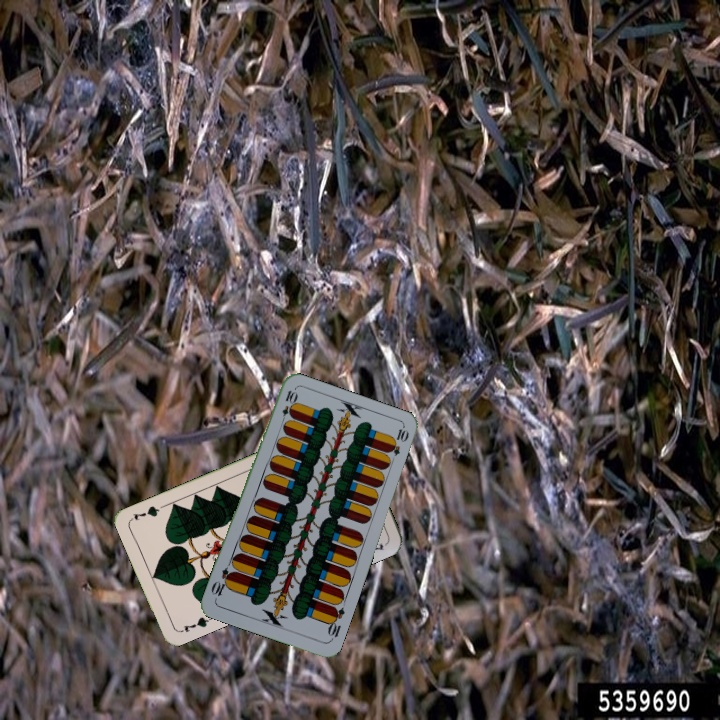E10: (323, 603, 347, 643), (277, 386, 298, 427)
G7: (176, 613, 215, 635)
